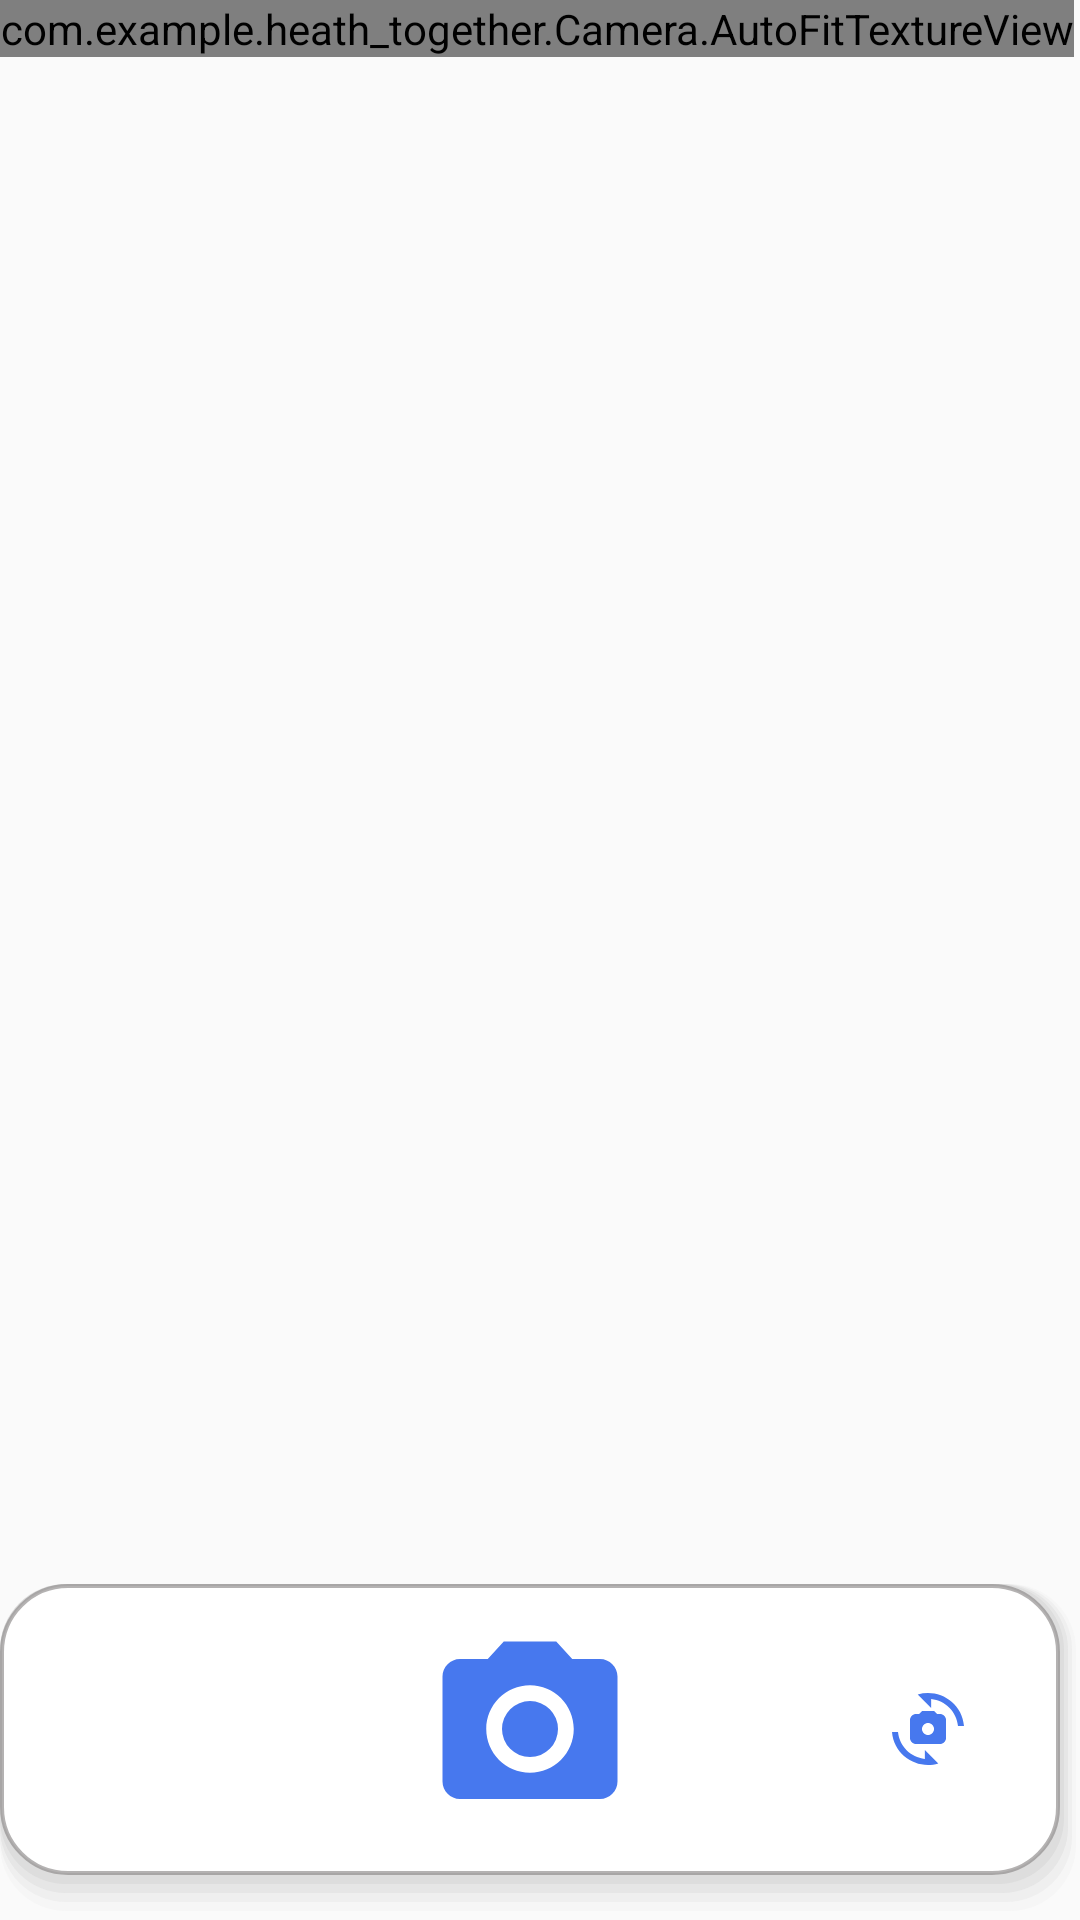

Where icons sit on this 1080 x 1920 app screen, as [left=x1, top=y1, right=x2, bottom=y2]:
photo camera: [left=442, top=1641, right=618, bottom=1799]
